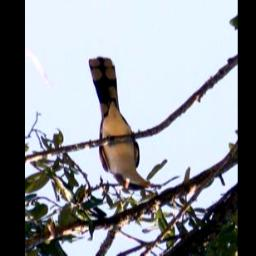Cuckoo: (86, 54, 161, 193)
